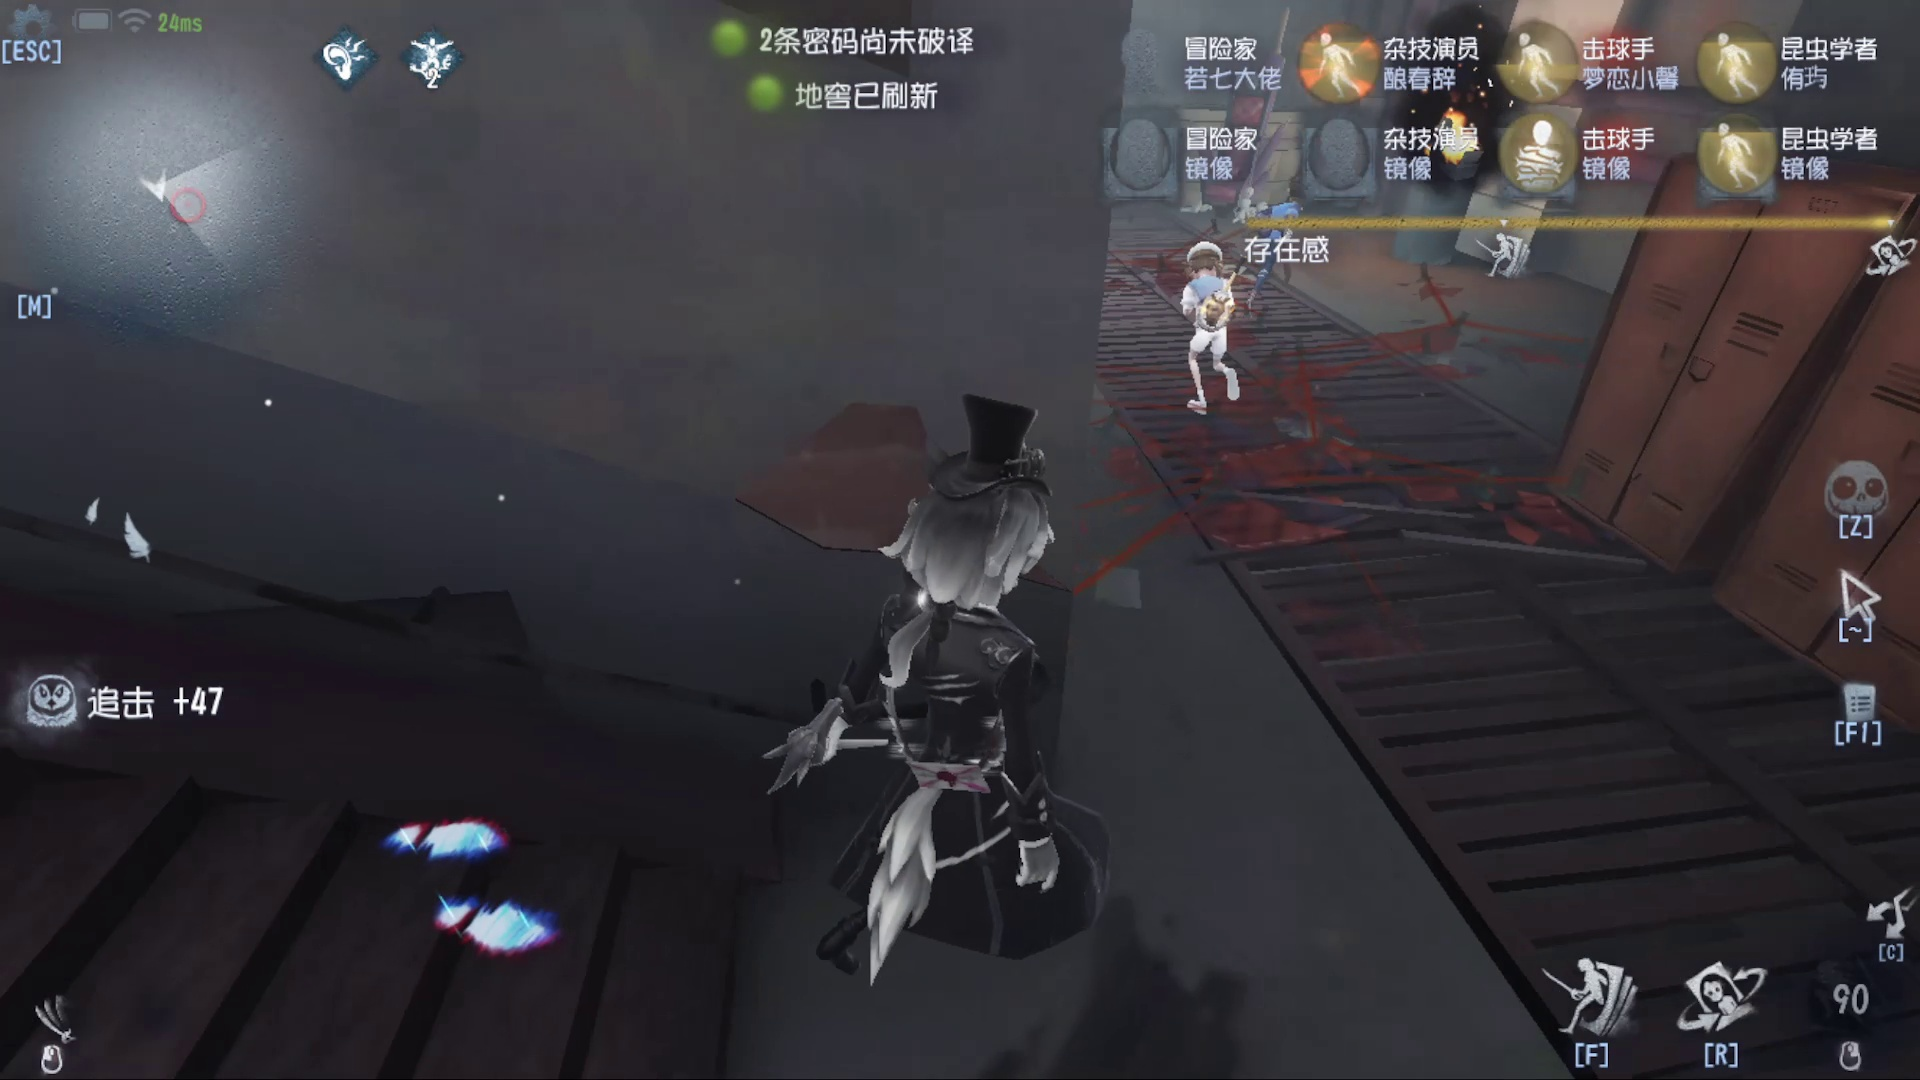求生者: (1149, 222, 1274, 423), (1245, 183, 1325, 293)
